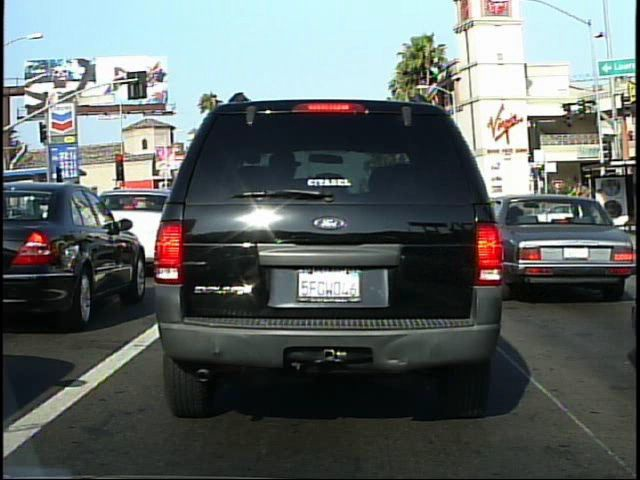person: (590, 183, 612, 242)
